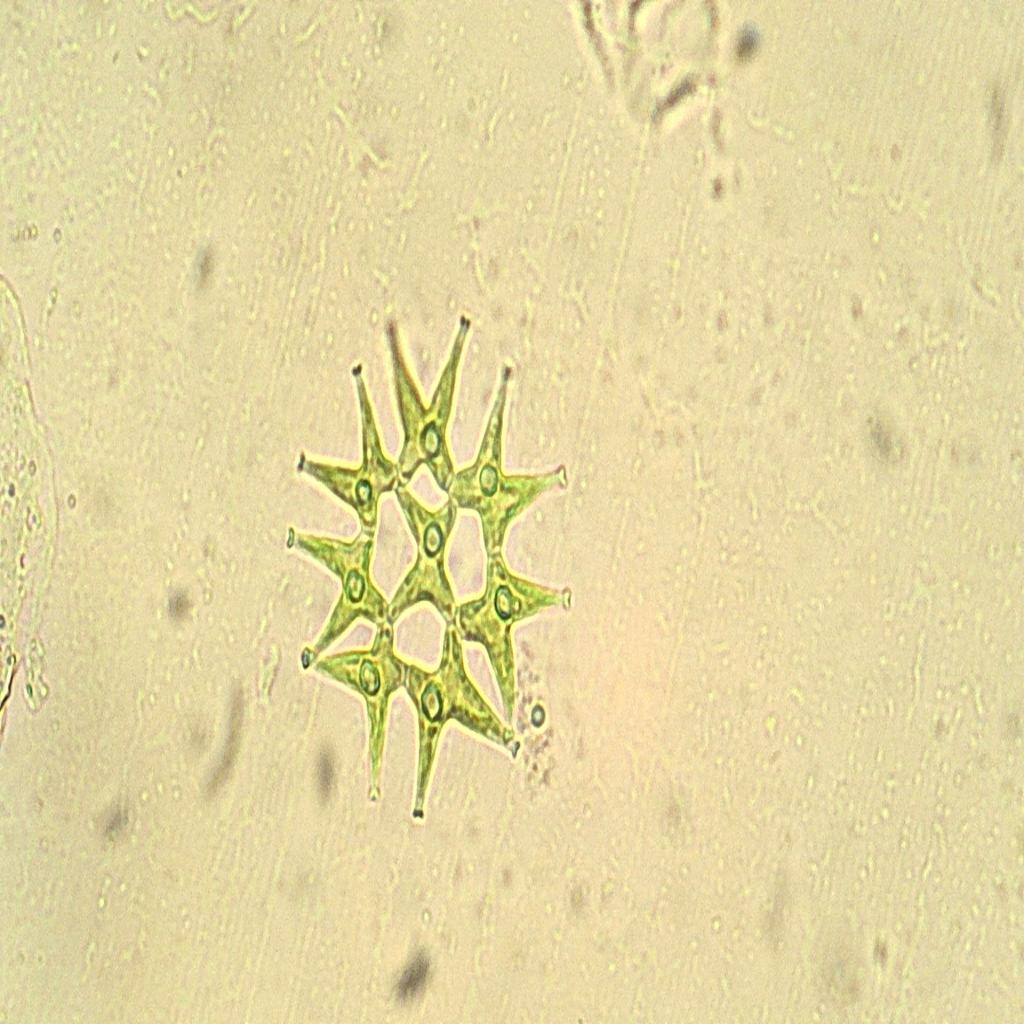Pediastrum_1T: (273, 286, 575, 840)
